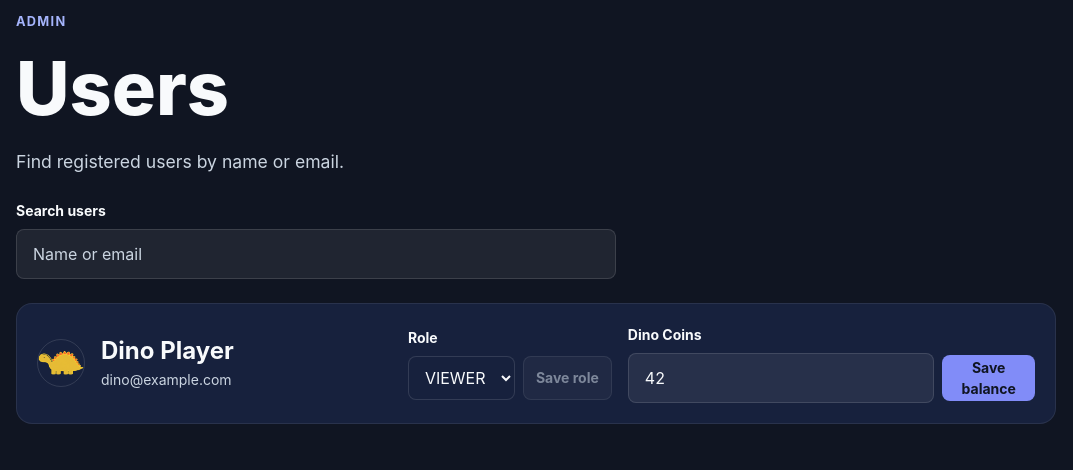
it: AdminUsersPage Dino Coin management › rejects an empty balance before sending it
Clear the number field labelled "Dino Coins" at (781,378), box [628,353,934,403]
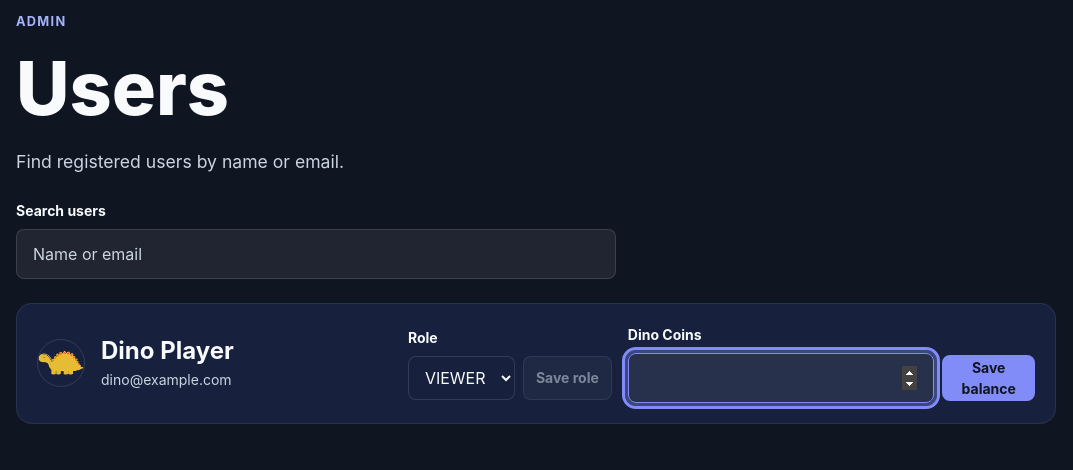
Click the button "Save balance".
click(989, 378)  # box [942,355,1035,401]
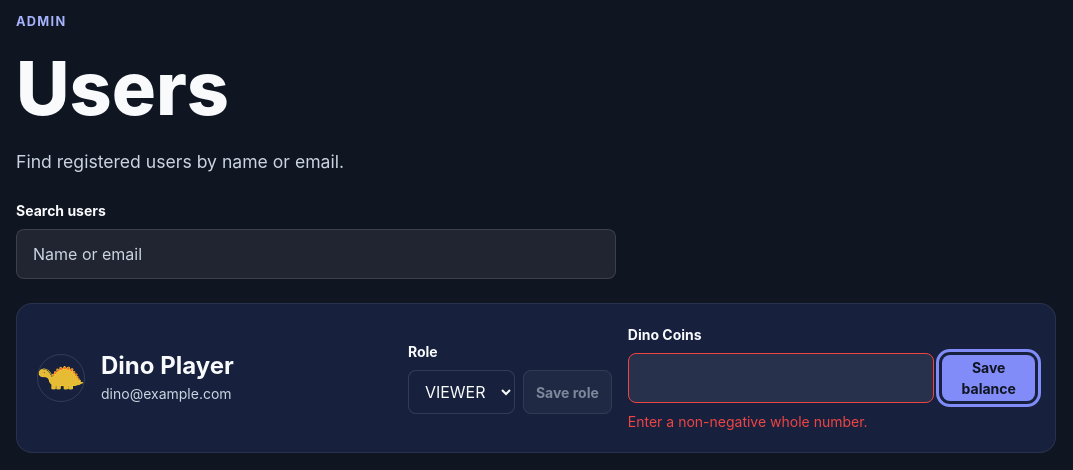
Expected: the message "Enter a non-negative whole number." is shown, [628,413,868,430]
